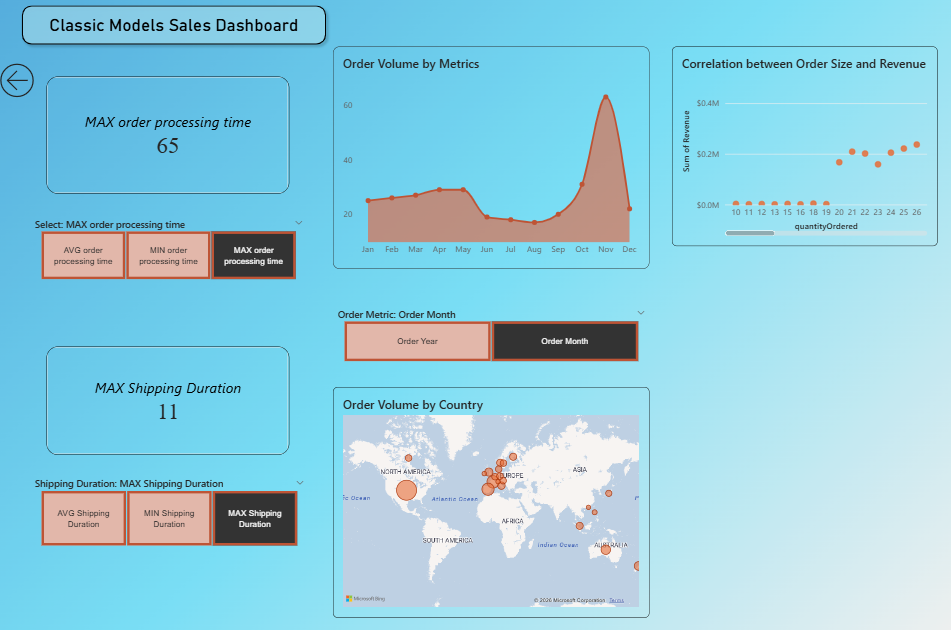

What the dashboard file says about the page in this screenshot:
{"tool":"powerbi","page":{"name":"Order Overview Page","canvas":[1920,1080],"ordinal":1},"visuals":[{"type":"cardVisual","title":"Average","fields":{"Data":["orders.MAX order processing time"]},"box":[242.9,128.6,404.8,195.2],"z":0},{"type":"slicer","fields":{"Values":["Parameter.Parameter"]},"box":[214.3,361.9,461.9,102.4],"z":1000},{"type":"cardVisual","fields":{"Data":["orders.MAX Shipping Duration"]},"box":[242.9,578.6,404.8,181],"z":2000},{"type":"slicer","fields":{"Values":["Shipping Duration.Shipping Duration"]},"box":[214.3,795.2,464.3,114.3],"z":3000},{"type":"lineChart","title":"Order Volume by Metrics","fields":{"Category":["orders.Order Month"],"Y":["orders.order count"]},"box":[719.8,77.4,527.5,370.4],"z":4000},{"type":"slicer","fields":{"Values":["Order Metric.Order Metric"]},"box":[719.8,513.4,527.5,89.1],"z":5000},{"type":"map","title":"Order Volume by Country","fields":{"Category":["customers.country"],"Size":["orders.order count"]},"box":[719.8,644.7,527.5,384.5],"z":7000},{"type":"scatterChart","title":"Correlation between Order Size and Revenue","fields":{"X":["order details.quantityOrdered"],"Y":["Sum(order details.money earned)"]},"box":[1285,77.5,442.5,332.5],"z":7001},{"type":"actionButton","box":[156.7,93.3,71.7,70],"z":7002},{"type":"shape","box":[193.3,0,525,83.3],"z":7003}]}

Visuals, with their boxes on the page's 1920x1080 design canvas (x1, y1, x2, y2). These are canvas units, not pixel positions in the 951x630 screenshot, which may show the page scaled, cropped or inside an application window:
"Average" cardVisual: x1=243 y1=129 x2=648 y2=324
slicer - Parameter.Parameter: x1=214 y1=362 x2=676 y2=464
cardVisual - orders.MAX Shipping Duration: x1=243 y1=579 x2=648 y2=760
slicer - Shipping Duration.Shipping Duration: x1=214 y1=795 x2=679 y2=910
"Order Volume by Metrics" lineChart: x1=720 y1=77 x2=1247 y2=448
slicer - Order Metric.Order Metric: x1=720 y1=513 x2=1247 y2=602
"Order Volume by Country" map: x1=720 y1=645 x2=1247 y2=1029
"Correlation between Order Size and Revenue" scatterChart: x1=1285 y1=78 x2=1728 y2=410
actionButton: x1=157 y1=93 x2=228 y2=163
shape: x1=193 y1=0 x2=718 y2=83
